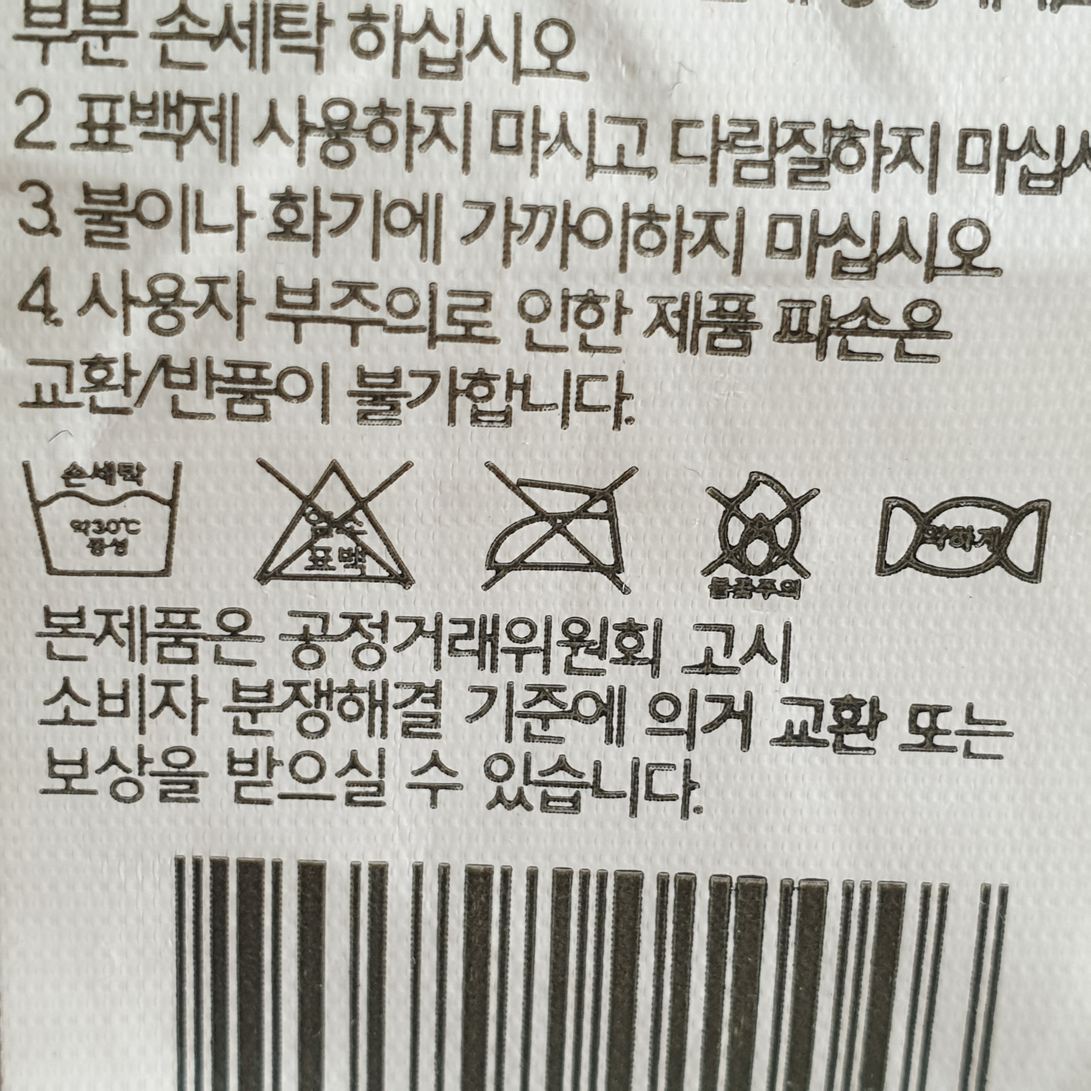KR_gentle_wring: (861, 473, 1064, 603)
KR_hand_wash_30_neutral: (17, 437, 197, 589)
KR_no_chlorine_bleach: (252, 442, 416, 605)
KR_no_iron: (471, 448, 641, 597)
